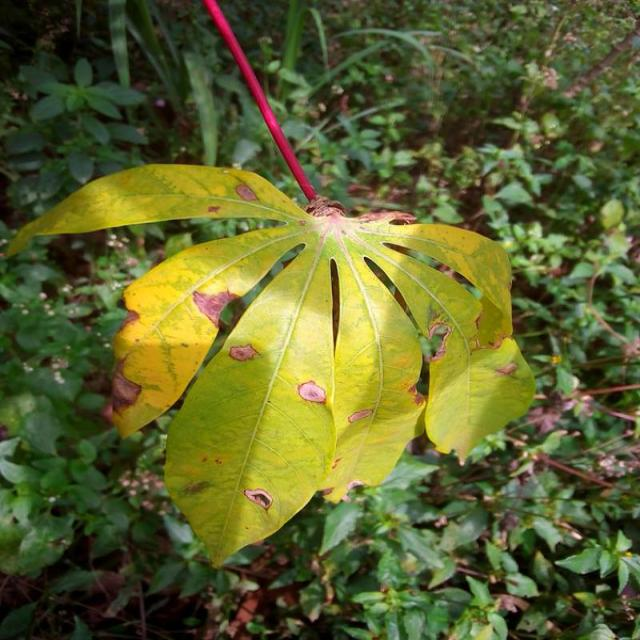cassava leaf: (6, 160, 536, 569)
